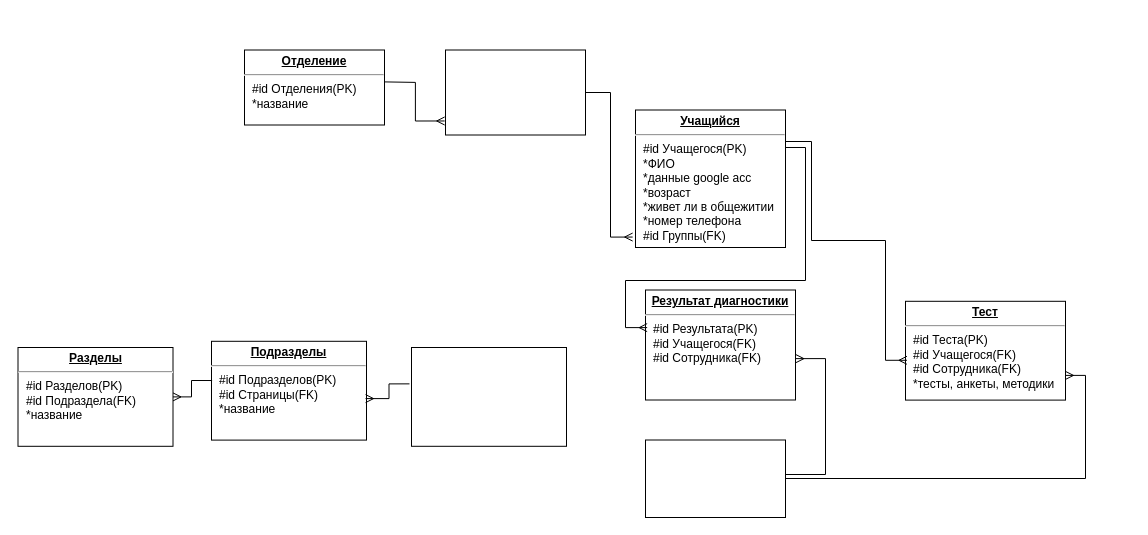
The diagram is 1148 pixels wide and 535 high, and some of its shapes have lost their labels. Here are the shapes that lost their labels. From the top down, the centre of each, then its label:
point (515, 92): Группа #id Группы(PR) *номер #id Отделения(FK )
point (488, 396): Страницы #id Страниц(PK) *информация
point (715, 478): Сотрудники СППС #id Сотрудника(PK)
